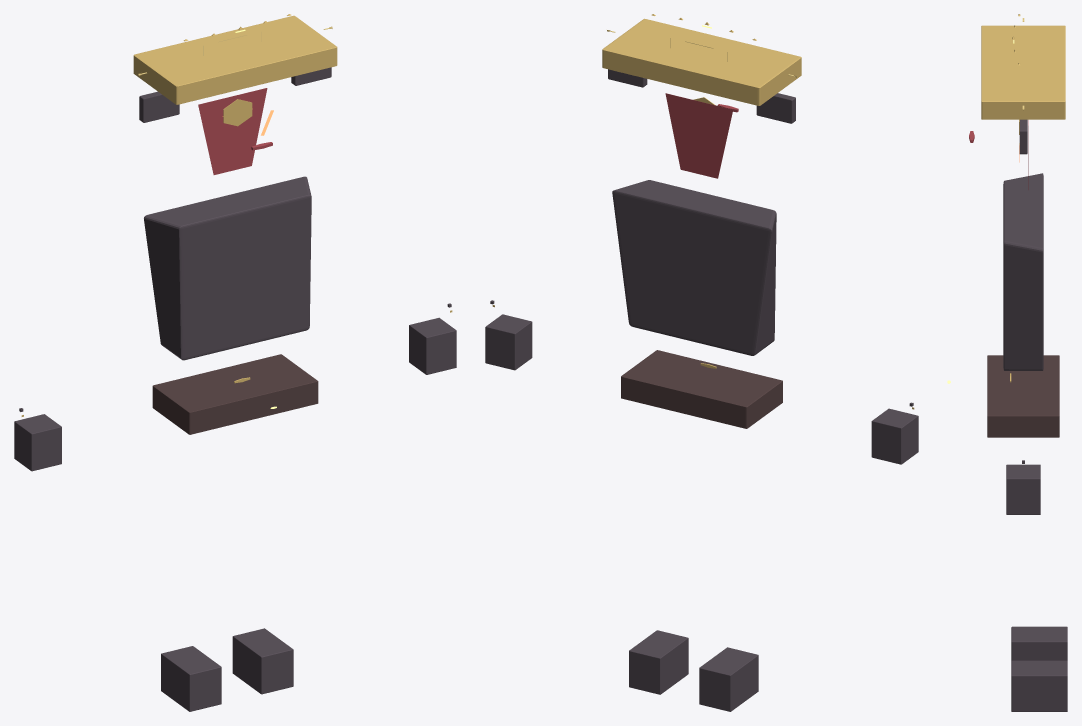
Rendered from outfit_boss_compiler.glb.
The picture shows the model from 3 angles, left to right: view 1: azimuth 30°, elevation 25°; view 2: azimuth 150°, elevation 25°; view 3: azimuth 270°, elevation 25°; orthographic projection. The views are drawn at different scales.
Parts seen in each view (by area): view 1: outfit_boss_compiler_chest_cuirass, outfit_boss_compiler_head_crown_band, outfit_boss_compiler_hip_belt, outfit_boss_compiler_back_mantle, outfit_boss_compiler_boot_R, outfit_boss_compiler_boot_L, outfit_boss_compiler_glove_R, outfit_boss_compiler_glove_L, outfit_boss_compiler_chest_pauldron_L; view 2: outfit_boss_compiler_chest_cuirass, outfit_boss_compiler_head_crown_band, outfit_boss_compiler_hip_belt, outfit_boss_compiler_back_mantle, outfit_boss_compiler_boot_R, outfit_boss_compiler_boot_L, outfit_boss_compiler_glove_L, outfit_boss_compiler_glove_R, outfit_boss_compiler_chest_pauldron_L; view 3: outfit_boss_compiler_head_crown_band, outfit_boss_compiler_chest_cuirass, outfit_boss_compiler_hip_belt, outfit_boss_compiler_boot_R, outfit_boss_compiler_boot_L, outfit_boss_compiler_glove_R, outfit_boss_compiler_chest_pauldron_R.
Boxes of the visible parts, box(x1,y1,x2,y2) form: outfit_boss_compiler_chest_cuirass: box(144, 176, 311, 360); outfit_boss_compiler_head_crown_band: box(133, 15, 337, 104); outfit_boss_compiler_hip_belt: box(152, 354, 318, 434); outfit_boss_compiler_back_mantle: box(198, 88, 267, 174); outfit_boss_compiler_boot_R: box(232, 628, 293, 694); outfit_boss_compiler_boot_L: box(161, 646, 221, 711); outfit_boss_compiler_glove_R: box(409, 317, 456, 374); outfit_boss_compiler_glove_L: box(14, 414, 61, 471); outfit_boss_compiler_chest_pauldron_L: box(139, 91, 179, 122); outfit_boss_compiler_chest_cuirass: box(612, 180, 776, 355); outfit_boss_compiler_head_crown_band: box(602, 18, 801, 105); outfit_boss_compiler_hip_belt: box(621, 350, 782, 428); outfit_boss_compiler_back_mantle: box(665, 93, 733, 178); outfit_boss_compiler_boot_R: box(629, 630, 688, 694); outfit_boss_compiler_boot_L: box(699, 647, 758, 711); outfit_boss_compiler_glove_L: box(871, 408, 918, 464); outfit_boss_compiler_glove_R: box(485, 314, 532, 370); outfit_boss_compiler_chest_pauldron_L: box(756, 93, 795, 123); outfit_boss_compiler_head_crown_band: box(981, 25, 1065, 119); outfit_boss_compiler_chest_cuirass: box(1003, 173, 1043, 370); outfit_boss_compiler_hip_belt: box(987, 355, 1059, 437); outfit_boss_compiler_boot_R: box(1011, 660, 1067, 711); outfit_boss_compiler_boot_L: box(1011, 626, 1067, 660); outfit_boss_compiler_glove_R: box(1006, 464, 1040, 514); outfit_boss_compiler_chest_pauldron_R: box(1019, 119, 1027, 154).
Bounding box in the file's own units: 1.2 × 1.79 × 0.2999.
